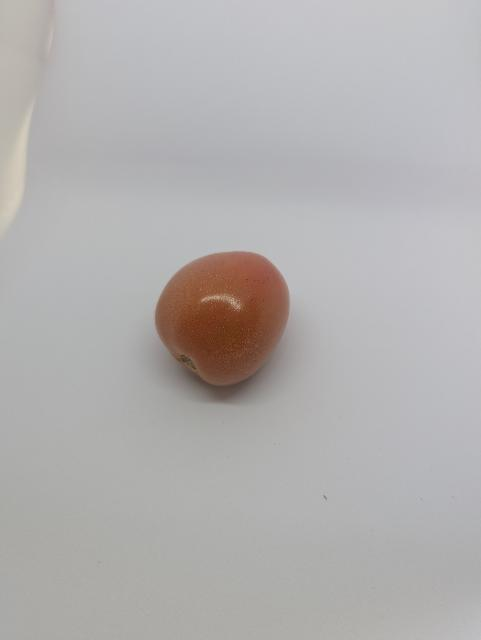red: (150, 245, 300, 393)
